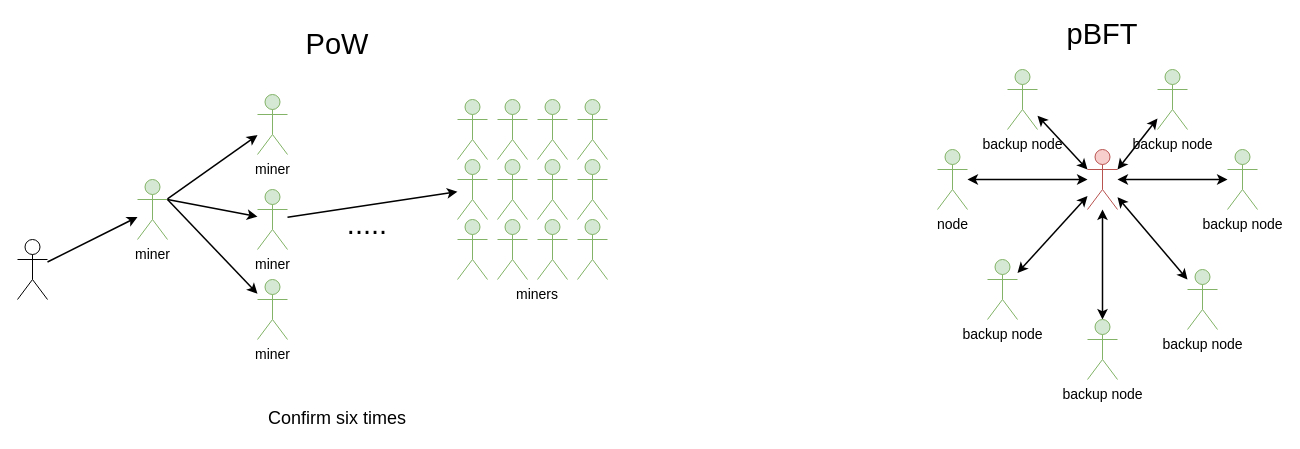
The diagram is 1300 pixels wide and 449 high, and some of its shapes have lost their labels. Here are the shapes that lost their labels. From the top down, the centre of each, then its label:
At (1102,179): "leader node".
At (32,269): "user".
